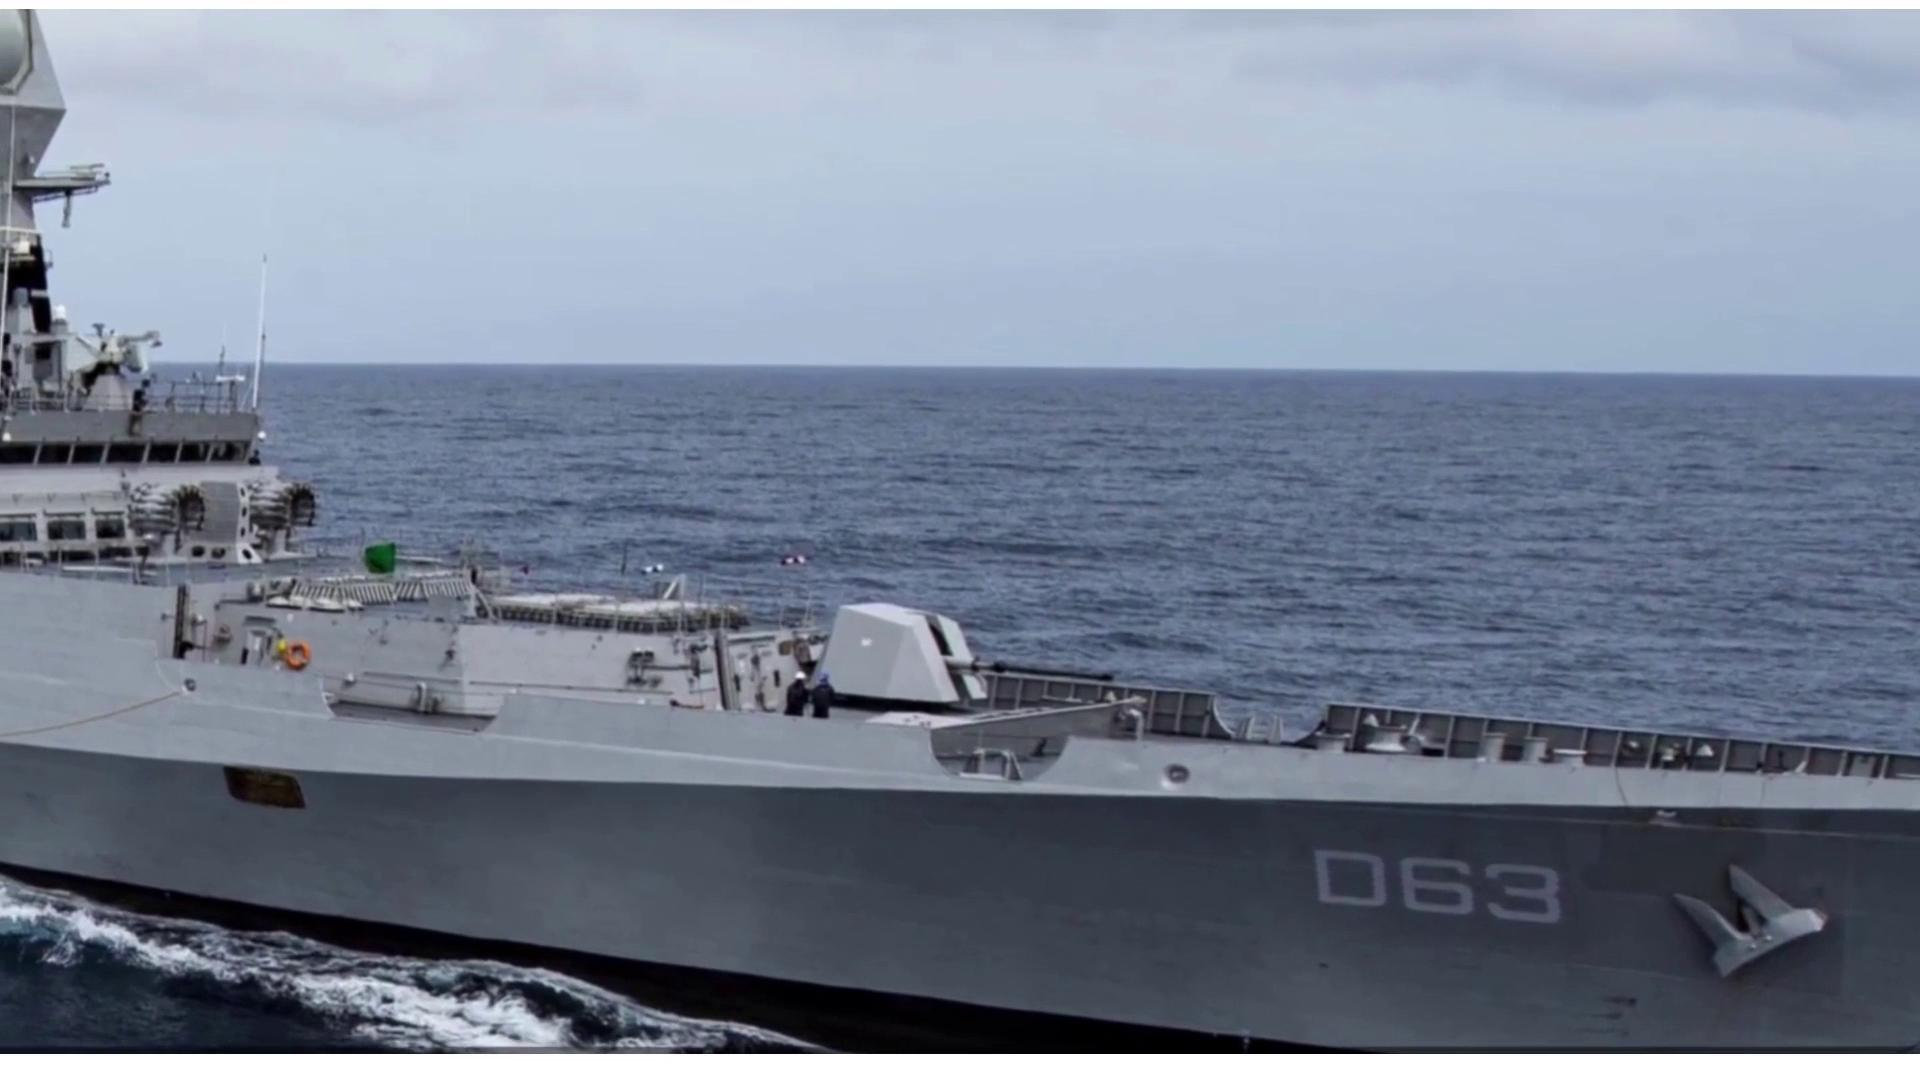OCR: (1296, 844, 1578, 933)
